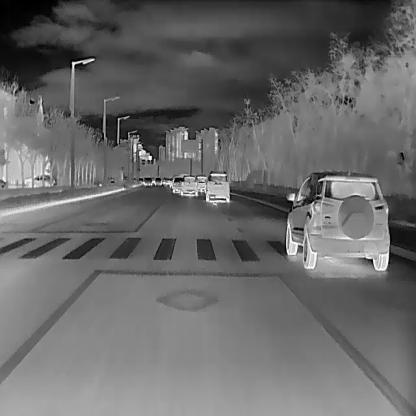car: (285, 170, 389, 270), (204, 170, 229, 201), (180, 174, 198, 196), (32, 173, 54, 187), (195, 174, 207, 192), (172, 176, 183, 192), (145, 177, 152, 185), (155, 177, 161, 185)
